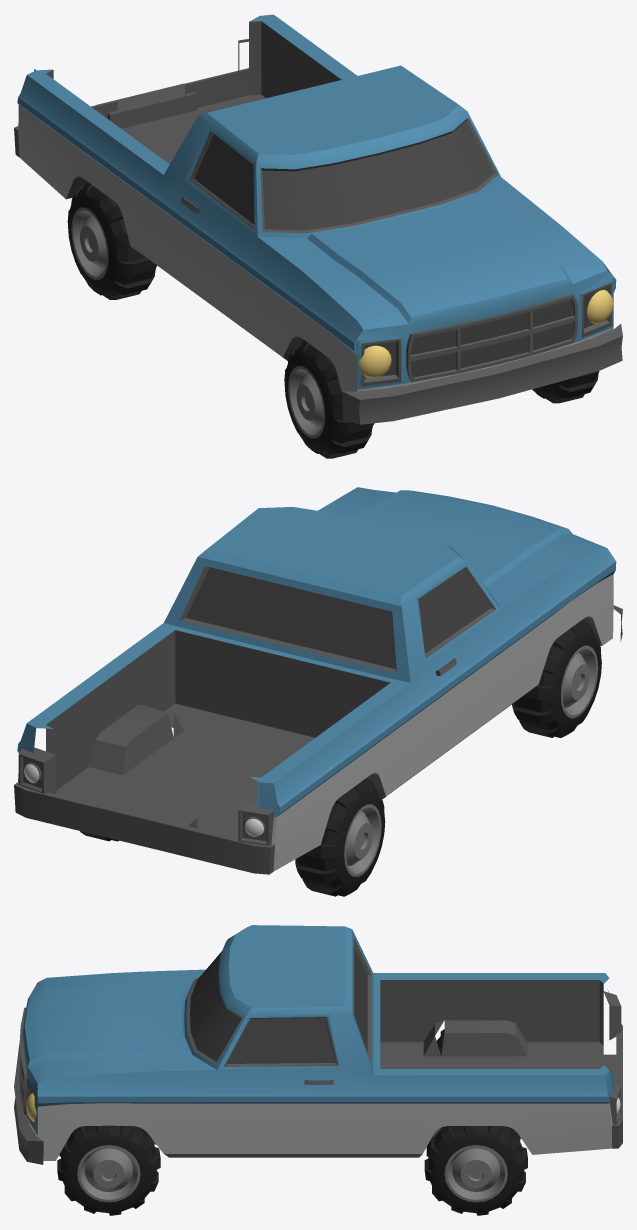
Rendered from _pickup_truck_MODIFIED.glb.
3 renders of one model, top to bottom at view 1: azimuth 30°, elevation 25°; view 2: azimuth 150°, elevation 25°; view 3: azimuth 270°, elevation 25°, orthographic. The views are drawn at different scales.
Visible parts, largest first — view 1: Pickup, BackWheels, FrontWheel_R, FrontWheel_L; view 2: Pickup, BackWheels, FrontWheel_R; view 3: Pickup, BackWheels, FrontWheel_L.
Part boxes in pixels (left/top/right/bottom): Pickup: left=14, top=14, right=622, bottom=424; BackWheels: left=67, top=181, right=156, bottom=299; FrontWheel_R: left=284, top=340, right=374, bottom=458; FrontWheel_L: left=532, top=371, right=599, bottom=403; Pickup: left=14, top=487, right=622, bottom=874; BackWheels: left=80, top=778, right=385, bottom=896; FrontWheel_R: left=512, top=620, right=601, bottom=737; Pickup: left=14, top=925, right=622, bottom=1164; BackWheels: left=424, top=1029, right=527, bottom=1215; FrontWheel_L: left=57, top=1125, right=160, bottom=1215.
Size of the model in its own units: 2.31 by 1.85 by 5.16.
Materials: 3 (1 with a texture image).
